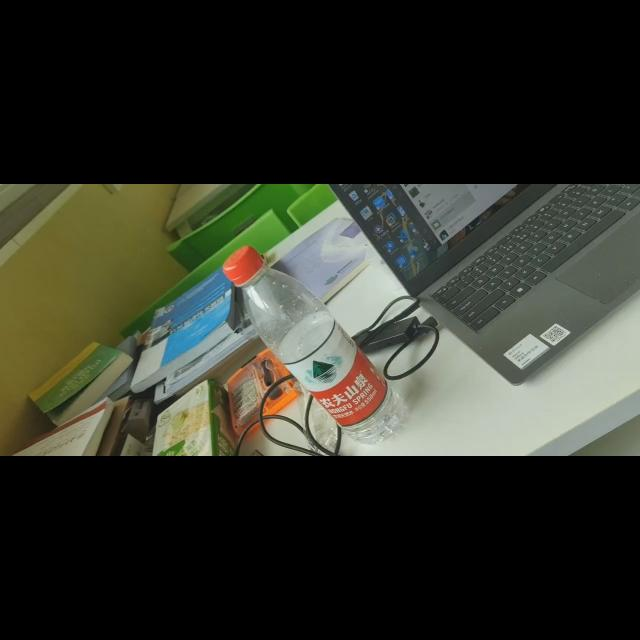trash: (222, 244, 404, 448)
